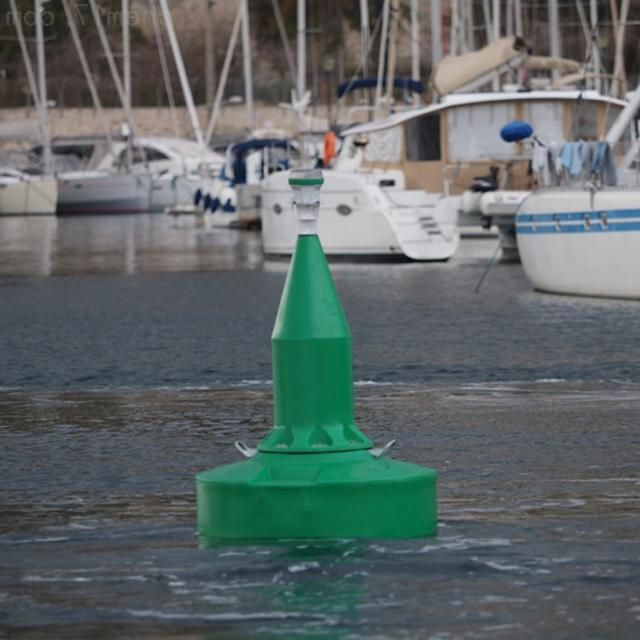buoy: (197, 161, 441, 549)
